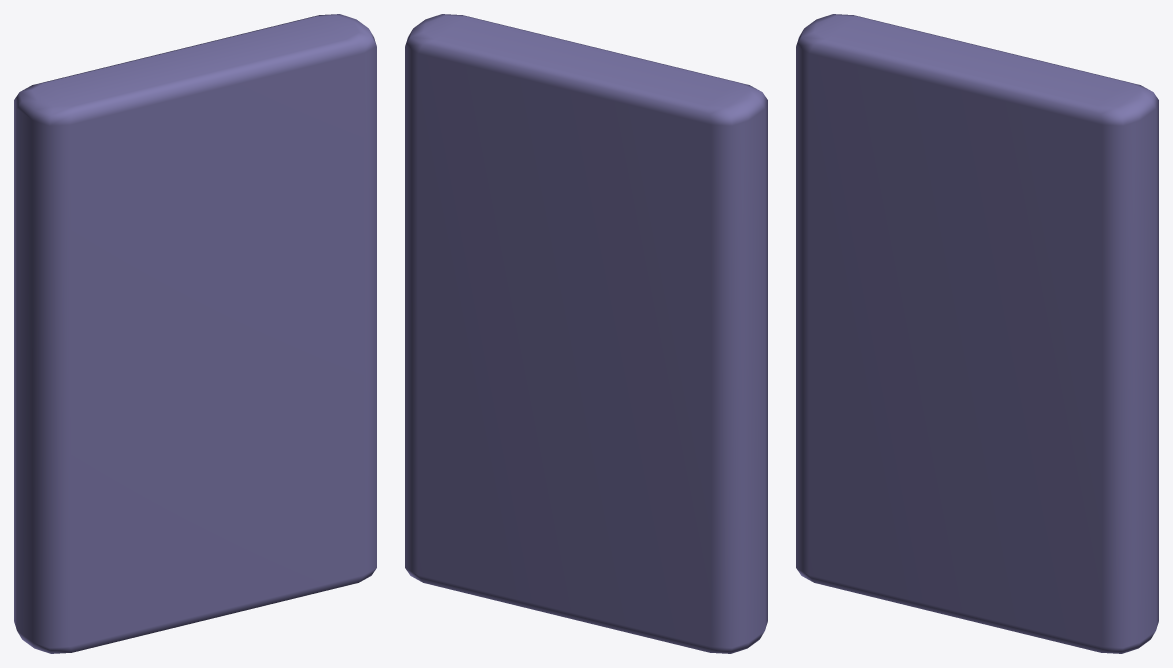
The model's file is estufa01.fbx.
3 renders of one model, left to right at view 1: azimuth 30°, elevation 25°; view 2: azimuth 150°, elevation 25°; view 3: azimuth 330°, elevation 25°, orthographic.
Visible parts, largest first — view 1: Estufa01; view 2: Estufa01; view 3: Estufa01.
Part boxes in pixels (x1,y1,x2,y2): Estufa01: (14,14,376,653); Estufa01: (405,14,767,653); Estufa01: (796,14,1158,653).
Bounding box in the file's own units: 0.4877 × 0.7455 × 0.1081.
